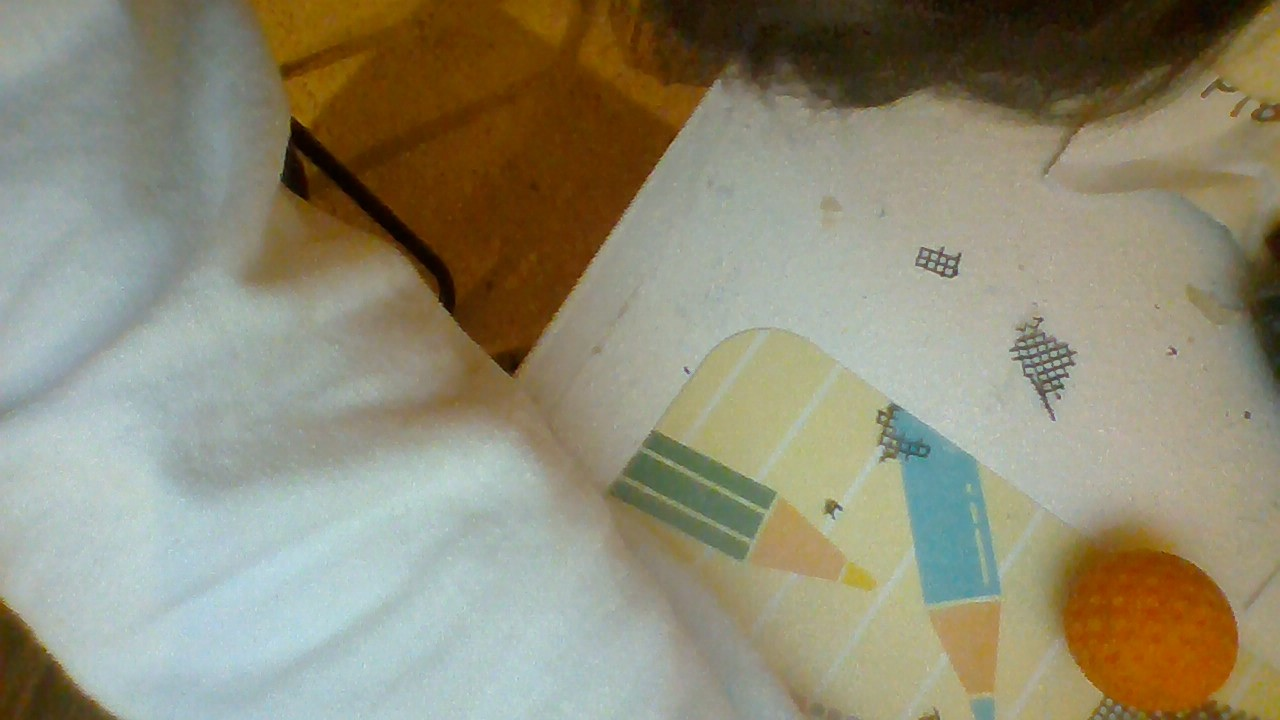ball: (1061, 552, 1238, 712)
